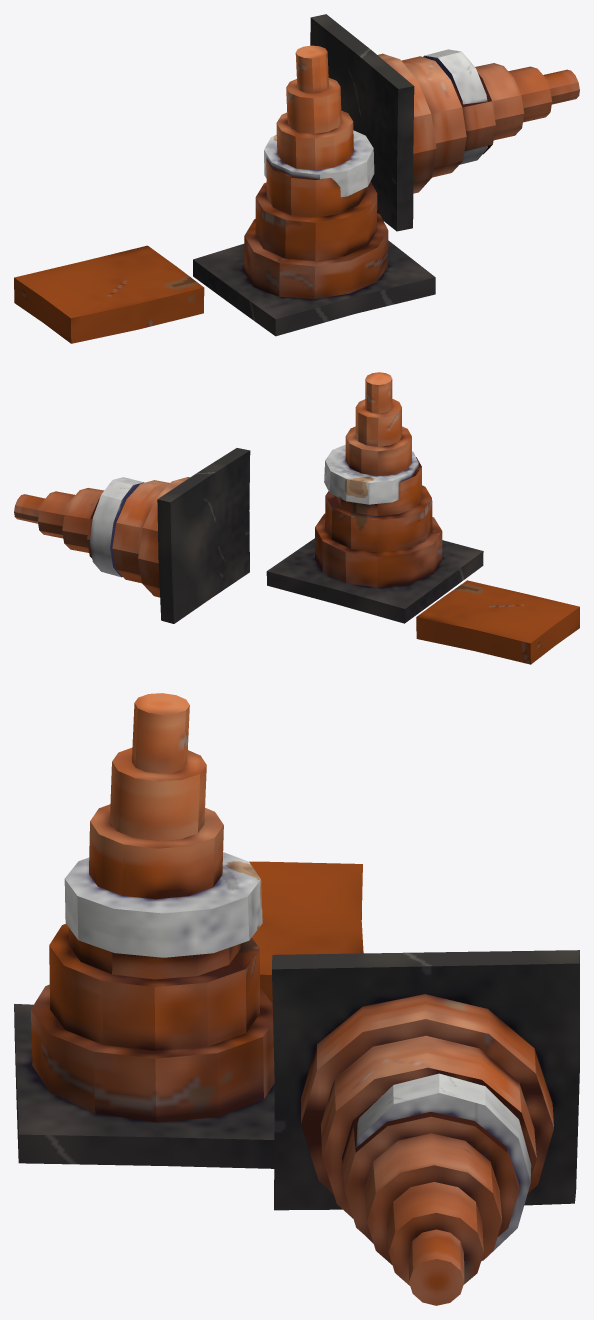
The model's file is TrafficCones.glb.
3 views of the same model, one above another, from view 1: azimuth 30°, elevation 25°; view 2: azimuth 150°, elevation 25°; view 3: azimuth 270°, elevation 25° (orthographic). The views are drawn at different scales.
Parts seen in each view (by area): view 1: Cones, Bases, Stripes; view 2: Cones, Bases, Stripes; view 3: Cones, Bases, Stripes.
Boxes of the visible parts, bbox=[...] form: Cones: bbox=[14, 45, 579, 343]; Bases: bbox=[193, 14, 435, 336]; Stripes: bbox=[264, 49, 487, 197]; Cones: bbox=[14, 372, 579, 664]; Bases: bbox=[157, 448, 483, 623]; Stripes: bbox=[89, 444, 418, 577]; Cones: bbox=[31, 693, 553, 1305]; Bases: bbox=[14, 950, 579, 1210]; Stripes: bbox=[64, 852, 531, 1260].
Size of the model in its own units: 2.97 by 1.17 by 1.48.
Materials: 3 (3 with a texture image).
